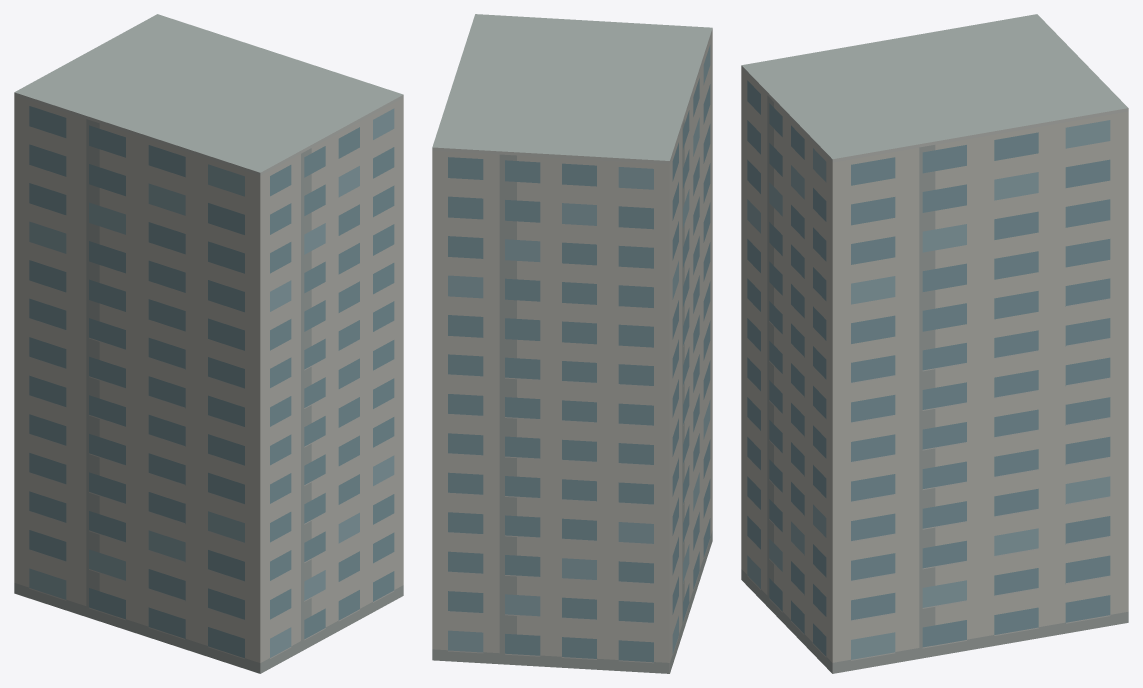
Rendered from residential-7ea6ee92-3e27-4eb0-8749-32758a882105.glb.
3 views of the same model, side by side, from view 1: azimuth 30°, elevation 25°; view 2: azimuth 150°, elevation 25°; view 3: azimuth 270°, elevation 25° (orthographic). The views are drawn at different scales.
Visible parts, largest first — view 1: residential-7ea6ee92-3e27-4eb0-8749-32758a882105.tmp; view 2: residential-7ea6ee92-3e27-4eb0-8749-32758a882105.tmp; view 3: residential-7ea6ee92-3e27-4eb0-8749-32758a882105.tmp.
Part boxes in pixels (x1,y1,x2,y2): residential-7ea6ee92-3e27-4eb0-8749-32758a882105.tmp: (14,14,403,673); residential-7ea6ee92-3e27-4eb0-8749-32758a882105.tmp: (432,14,712,673); residential-7ea6ee92-3e27-4eb0-8749-32758a882105.tmp: (741,14,1128,673).
Bounding box in the file's own units: 23.62 × 39 × 26.59.
